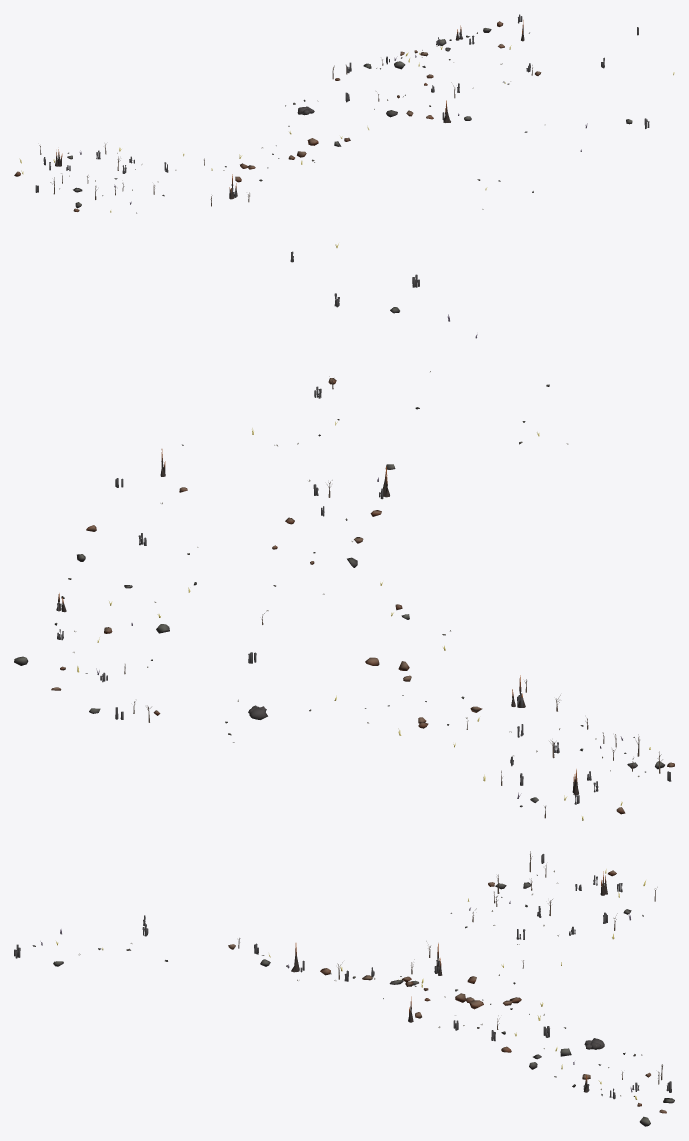
File: ash_land_scatter_c20_28.glb
3 renders of one model, top to bottom at view 1: azimuth 30°, elevation 25°; view 2: azimuth 150°, elevation 25°; view 3: azimuth 270°, elevation 25°, orthographic. The views are drawn at different scales.
Visible parts, largest first — view 1: ash_land_scatter_c20_28; view 2: ash_land_scatter_c20_28; view 3: ash_land_scatter_c20_28.
Part boxes in pixels (bbox=[...]): ash_land_scatter_c20_28: bbox=[14, 14, 674, 213]; ash_land_scatter_c20_28: bbox=[14, 243, 674, 820]; ash_land_scatter_c20_28: bbox=[14, 851, 674, 1126].
Bounding box in the file's own units: 256 × 102 × 258.
